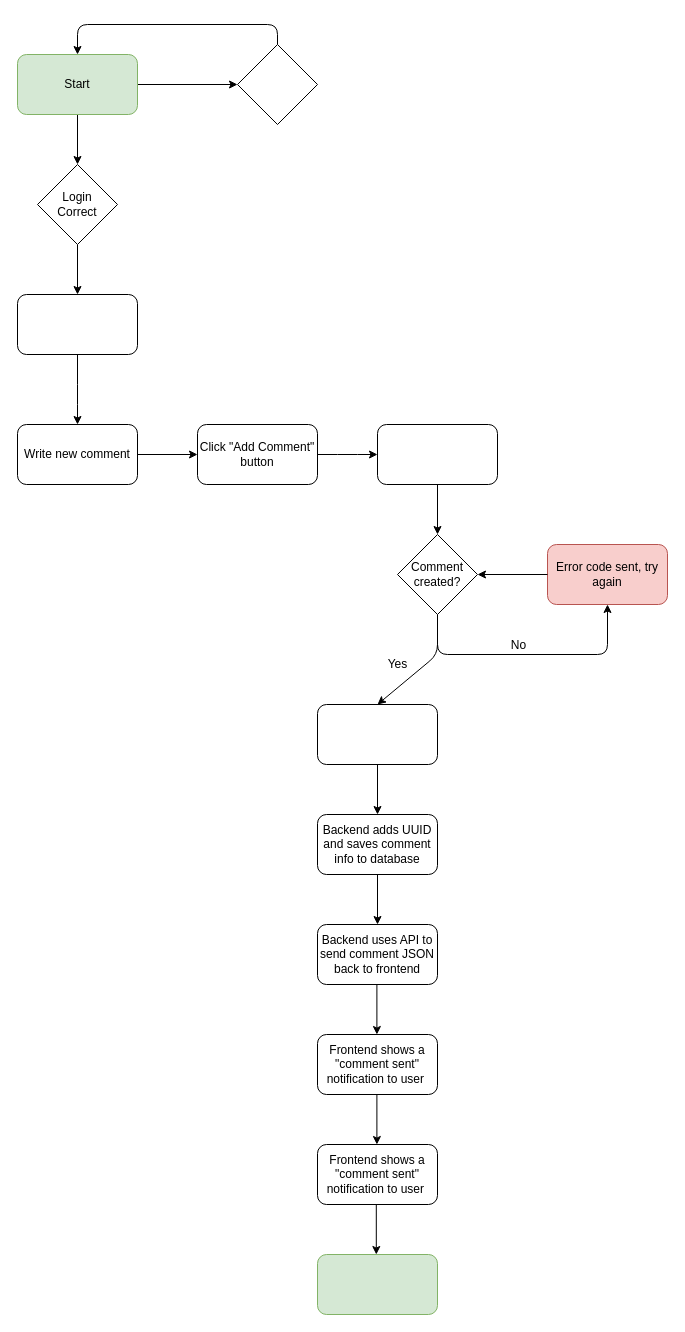
The diagram is 685 pixels wide and 1332 high, and some of its shapes have lost their labels. The shapes that lost their labels are listed below. From the top down, each one's centre as x and y in pixels, then its label:
At point 277,84: "Login Incorrect".
At point 77,324: "Home Screen".
At point 437,454: "User enters name and comment into text field".
At point 377,734: "Frontend uses API to send JSON including comment info to backend".
At point 377,1284: "New comment appears in the list of comments".
